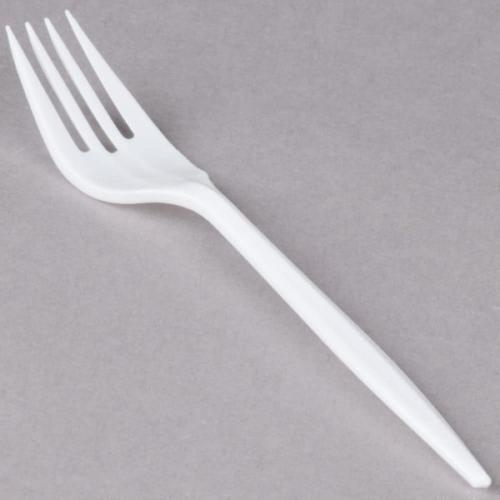Fork: (6, 9, 492, 490)
